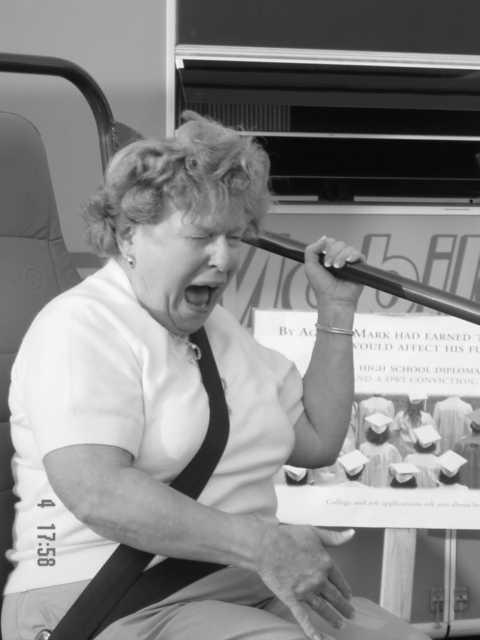Seatbelt: (41, 310, 241, 640)
